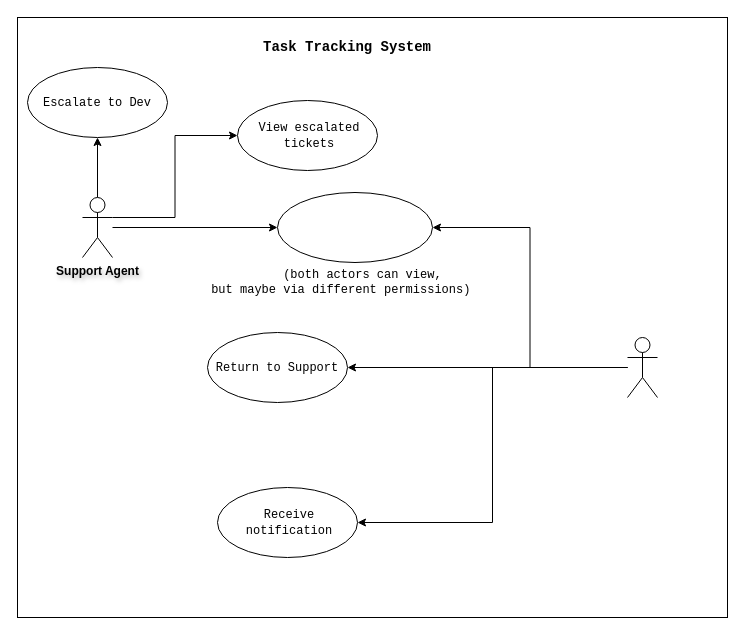
Image size: 745x635. Some labels were removed from this diagram. The shapes that lost their labels are listed below. From the top down, each one's box as (x1, y1, x2, y2) in pixels, then its label:
(276, 192, 432, 262): View audit log
(626, 336, 658, 398): Developer
